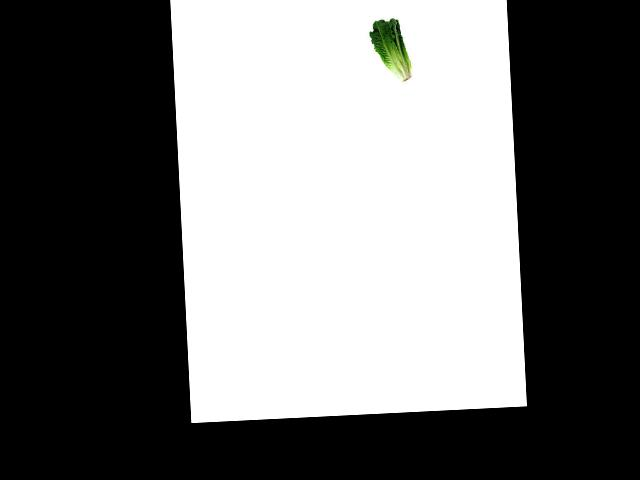lettuce: (369, 15, 414, 86)
